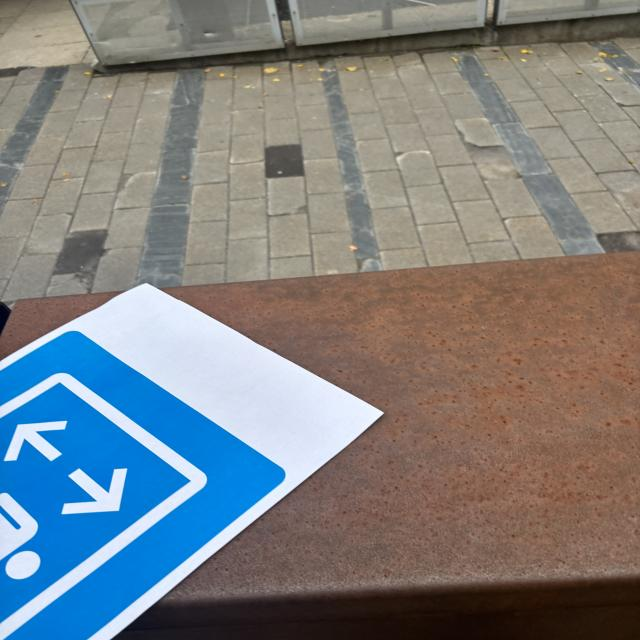elevator: (0, 330, 284, 640)
